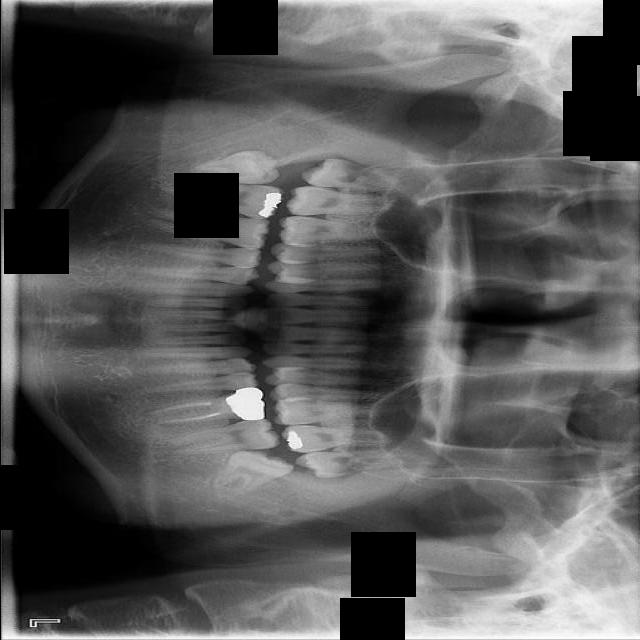3M ESPE Implant: (299, 155, 393, 193)
52: (232, 174, 289, 233), (225, 384, 267, 425), (279, 422, 329, 455)
73: (148, 393, 233, 432), (45, 604, 55, 618)
BioHorizons Implant: (280, 423, 389, 459)
BioLife Implant: (294, 448, 403, 479)
Biomet 3i Implant: (201, 430, 296, 509)
Blue Sky Bio Implant: (170, 416, 282, 458)
Caries: (287, 184, 390, 216)
Implant: (164, 177, 284, 222)
Keystone Dental Implant: (193, 149, 279, 186)
